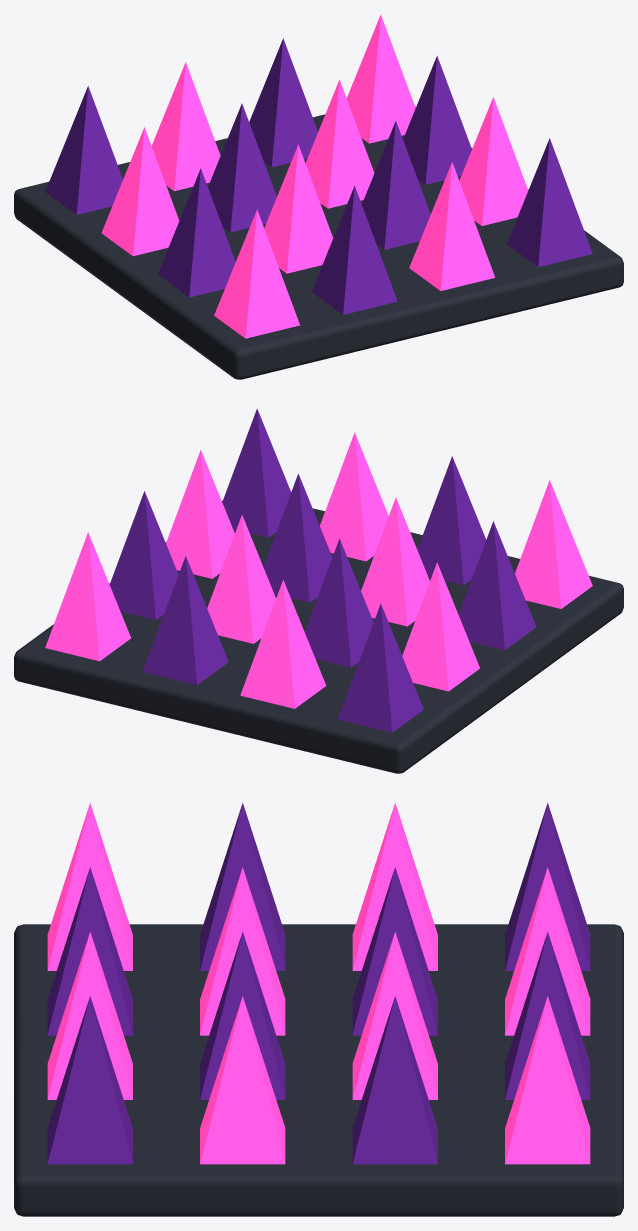
The model's file is HAZ_Spikes.glb.
3 views of the same model, one above another, from view 1: azimuth 30°, elevation 25°; view 2: azimuth 150°, elevation 25°; view 3: azimuth 270°, elevation 25° (orthographic). The views are drawn at different scales.
Parts seen in each view (by area): view 1: Spikes, Base; view 2: Spikes, Base; view 3: Base, Spikes.
Boxes of the visible parts, x1,y1,x2,y2 form: Spikes: (45, 14, 592, 338); Base: (14, 106, 623, 379); Spikes: (45, 408, 592, 732); Base: (14, 500, 623, 773); Base: (14, 924, 623, 1216); Spikes: (47, 803, 590, 1164).
Size of the model in its own units: 2 by 0.695 by 2.
